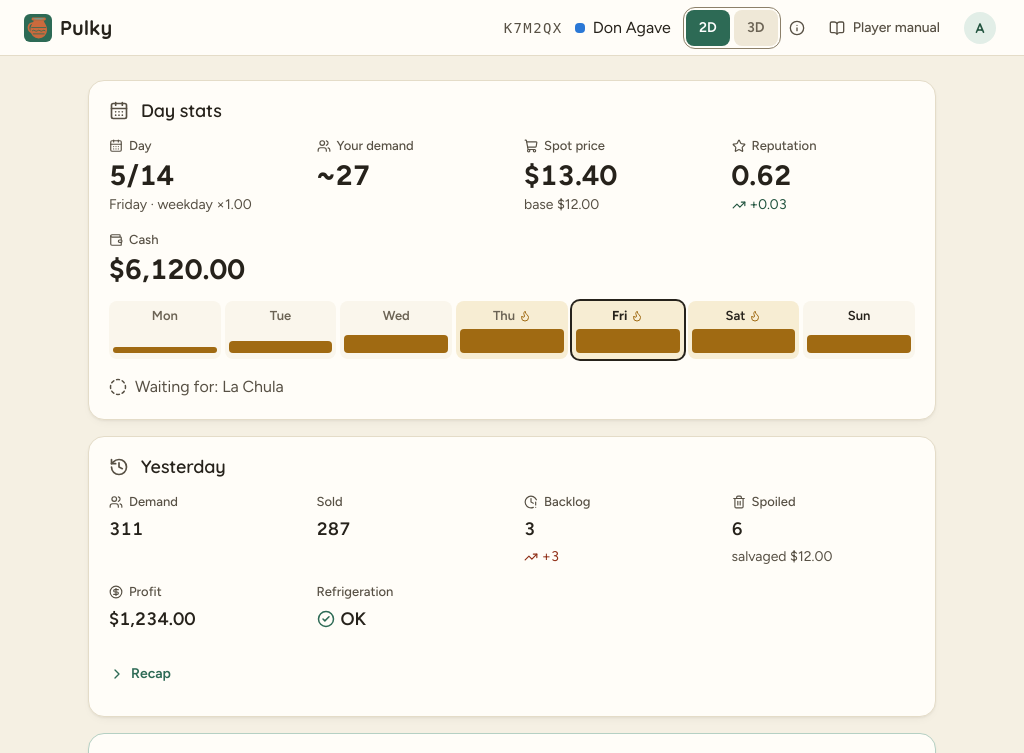
Test: GameRoom builds the board props from the store (spec 12.6) › takes histories, config and awaiting from the store, never from the player view
Expected: the text "Waiting for: La Chula" is shown, [109,377,284,396]
Step 1. Click the heading "Recap" → (140, 674), box [109,665,171,682]
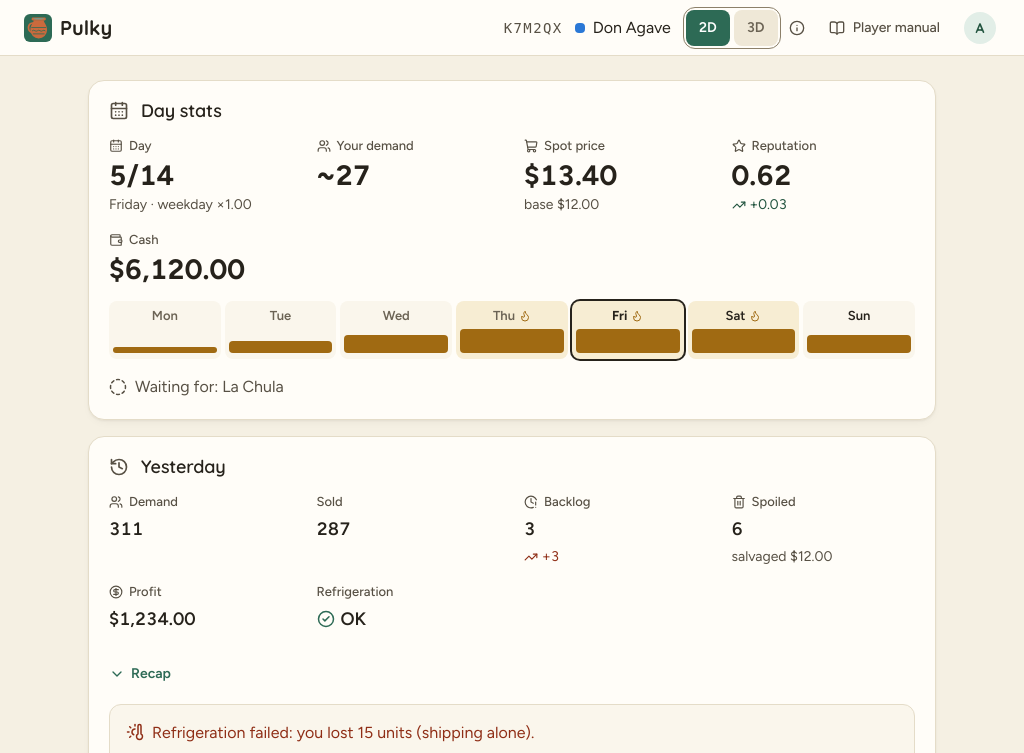
Now the text "Refrigeration failed: you lost 15 units (shipping alone)." is shown, box [152,723,534,742]
